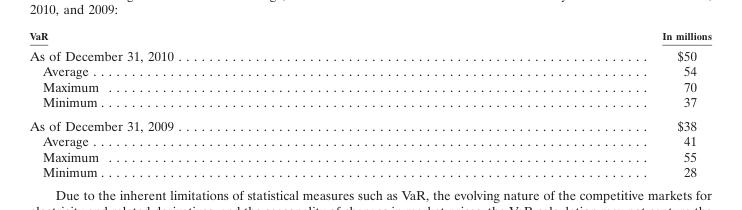table: (28, 29, 711, 179)
table column: (28, 29, 417, 179), (417, 29, 711, 179)
table column header: (28, 29, 711, 44)
table row: (28, 44, 711, 63), (28, 94, 711, 113), (28, 113, 711, 132), (28, 78, 711, 94), (28, 132, 711, 148), (28, 163, 711, 179), (28, 29, 711, 44), (28, 63, 711, 78), (28, 148, 711, 163)
